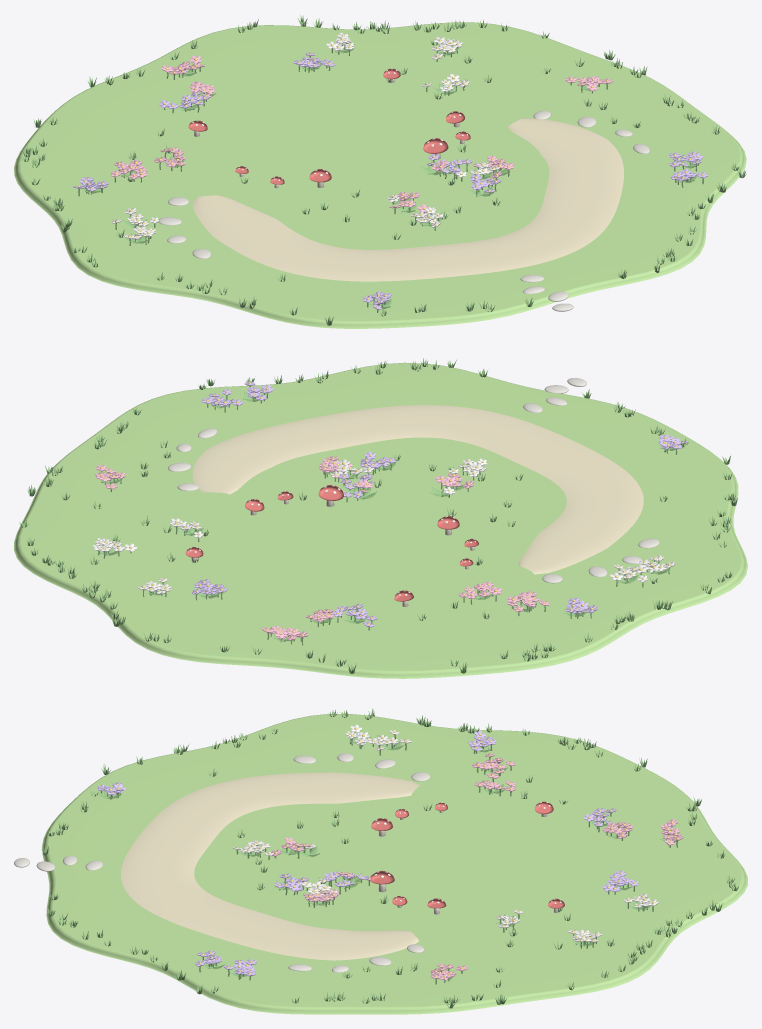
Rendered from HoneyGlade.glb.
3 renders of one model, top to bottom at view 1: azimuth 30°, elevation 25°; view 2: azimuth 150°, elevation 25°; view 3: azimuth 270°, elevation 25°, orthographic. The views are drawn at different scales.
Parts seen in each view (by area): view 1: Lawn, Sand, Stems, FlowerLilac, FlowerPink, FlowerWhite, Stones, Caps, FlowerMiddles; view 2: Lawn, Sand, Stems, FlowerLilac, FlowerPink, FlowerWhite, Stones, Caps, FlowerMiddles; view 3: Lawn, Sand, Stems, FlowerLilac, FlowerPink, FlowerWhite, Stones, Caps, FlowerMiddles.
Boxes of the visible parts, <box> form: Lawn: <box>14,22,746,328</box>; Sand: <box>192,118,623,281</box>; Stems: <box>21,15,746,325</box>; FlowerLilac: <box>73,52,708,309</box>; FlowerPink: <box>111,55,612,212</box>; FlowerWhite: <box>111,32,501,239</box>; Stones: <box>158,110,650,311</box>; Caps: <box>188,68,470,184</box>; FlowerMiddles: <box>77,35,703,307</box>; Lawn: <box>14,362,747,678</box>; Sand: <box>192,405,643,574</box>; Stems: <box>19,358,737,673</box>; FlowerLilac: <box>192,381,687,627</box>; FlowerPink: <box>95,456,549,640</box>; FlowerWhite: <box>93,458,674,594</box>; Stones: <box>168,378,659,583</box>; Caps: <box>185,485,478,601</box>; FlowerMiddles: <box>97,382,683,638</box>; Lawn: <box>42,714,747,1014</box>; Sand: <box>121,772,420,960</box>; Stems: <box>41,708,738,1008</box>; FlowerLilac: <box>97,730,638,976</box>; FlowerPink: <box>271,753,683,980</box>; FlowerWhite: <box>232,724,658,942</box>; Stones: <box>14,753,430,972</box>; Caps: <box>370,801,564,908</box>; FlowerMiddles: <box>100,727,678,977</box>.
Bounding box in the file's own units: 70.26 × 2.49 × 73.05.
